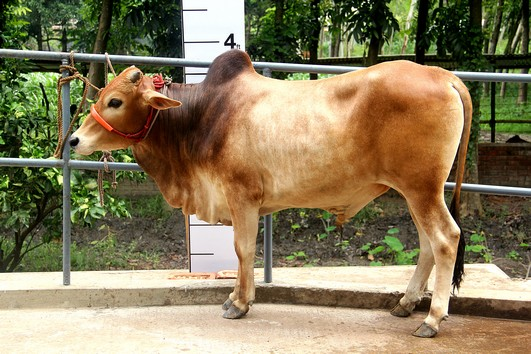cow: (65, 45, 477, 341)
